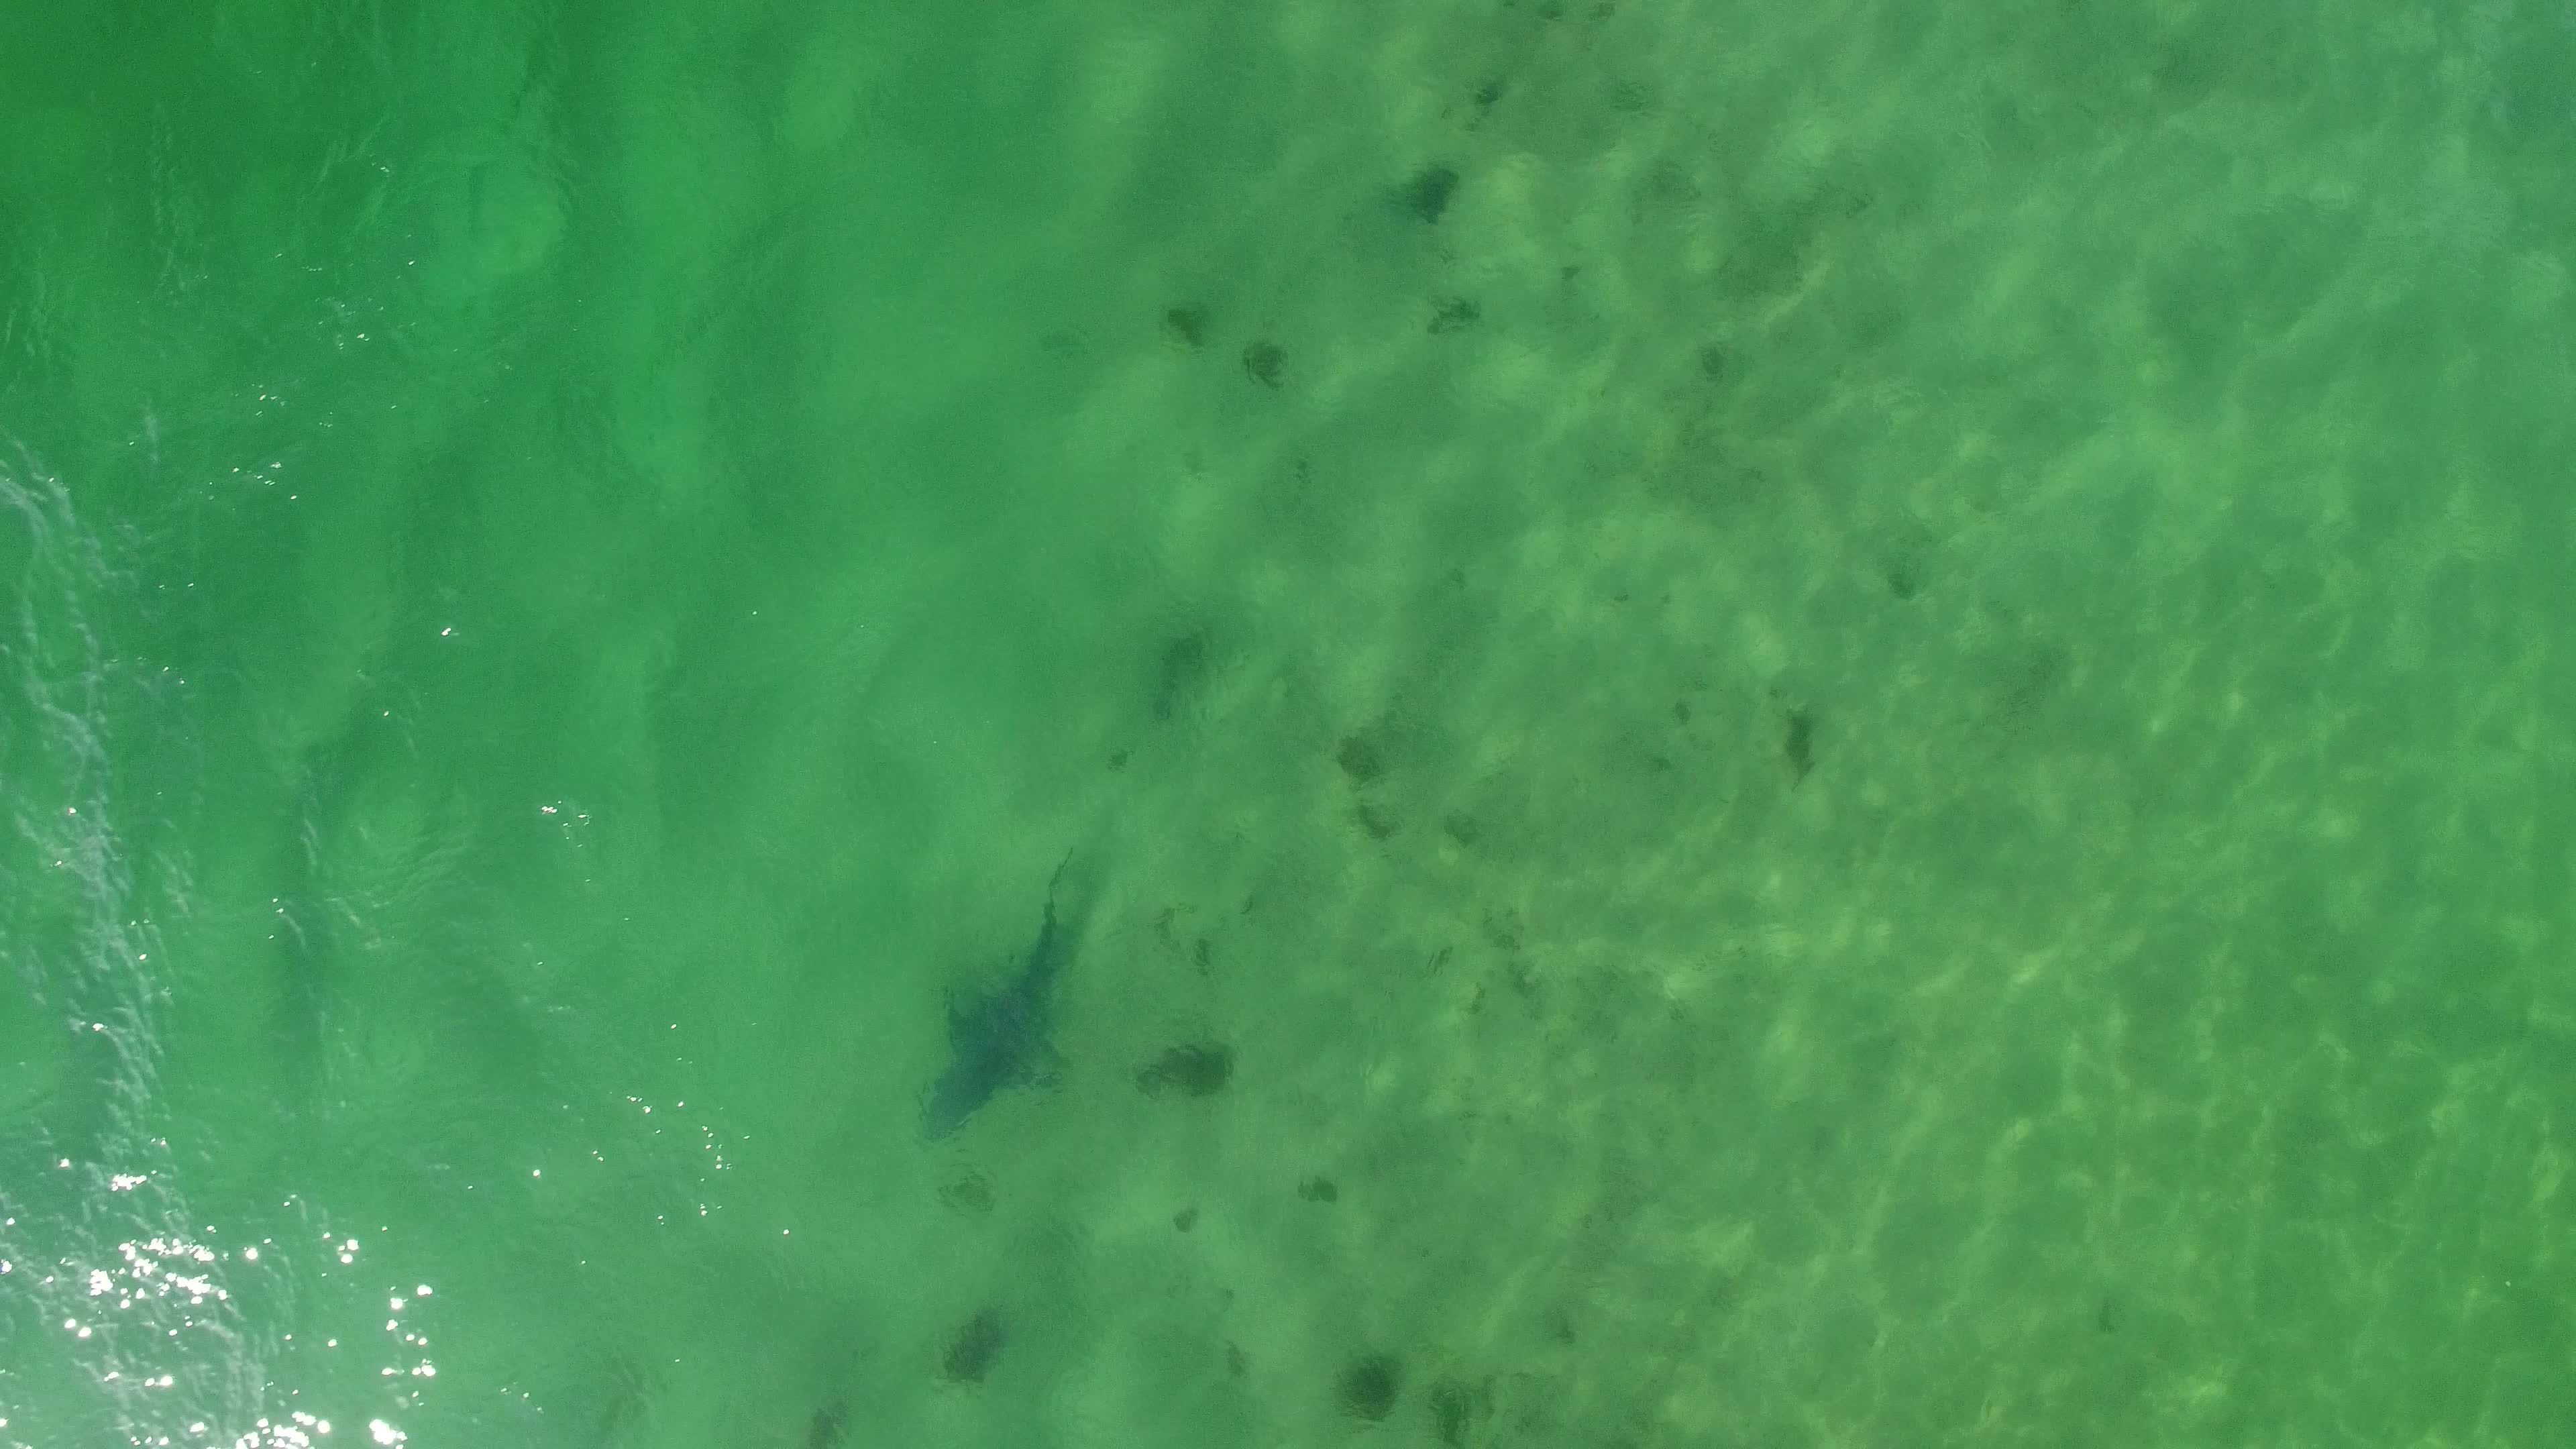shark: (915, 851, 1090, 1146)
